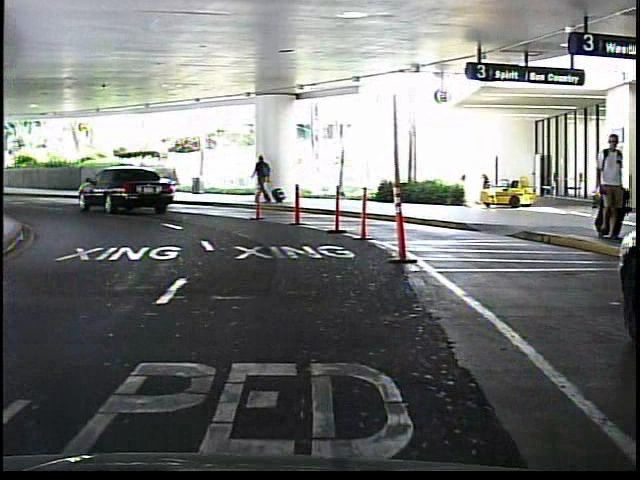person: (588, 123, 629, 247), (252, 151, 277, 208)
